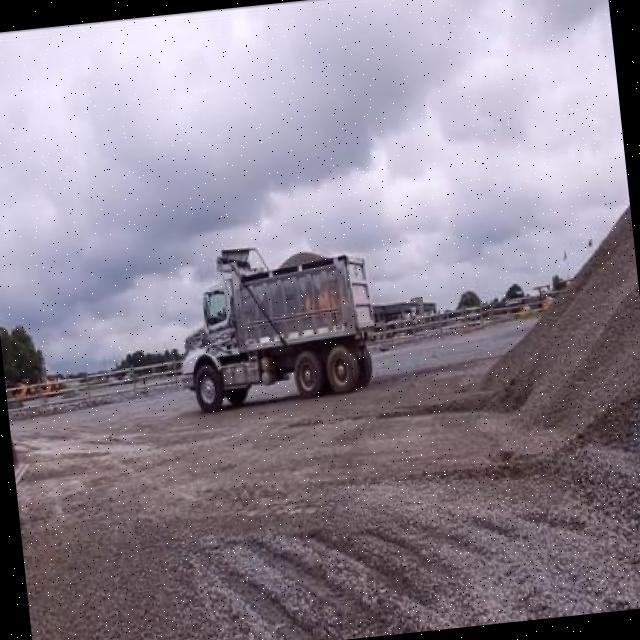Dump Truck: (166, 233, 382, 415)
